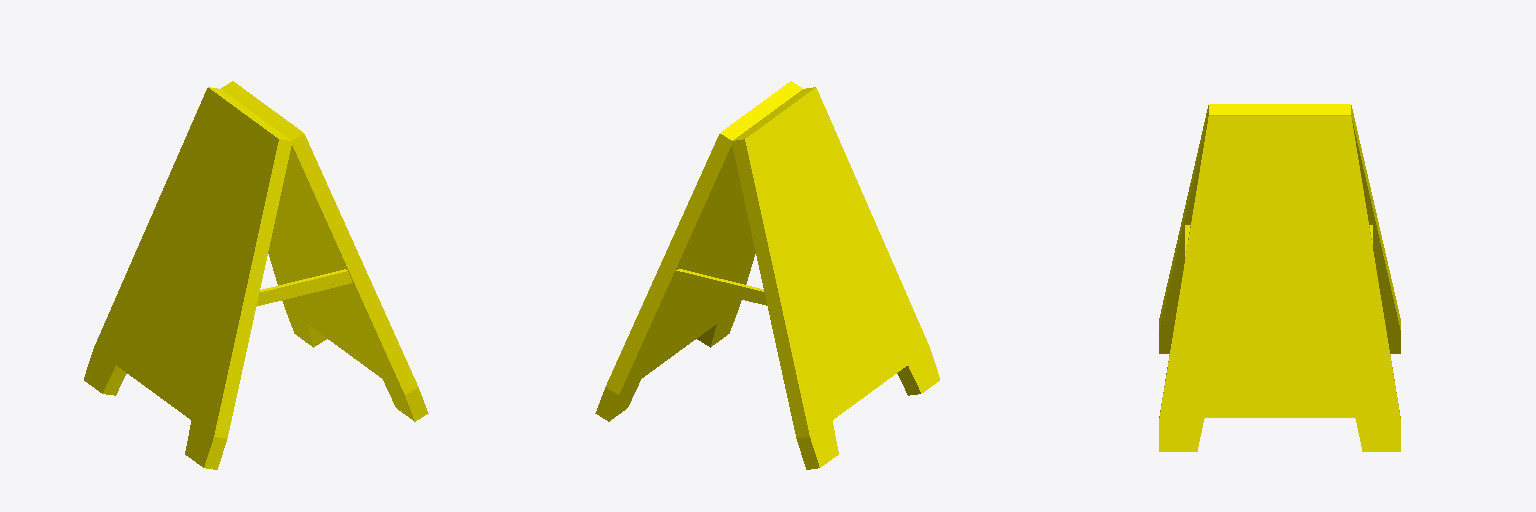
The model's file is slipperyfloorsign.obj.
3 views of the same model, side by side, from view 1: azimuth 30°, elevation 25°; view 2: azimuth 150°, elevation 25°; view 3: azimuth 270°, elevation 25° (orthographic).
Parts seen in each view (by area): view 1: Cube.002; view 2: Cube.002; view 3: Cube.002.
Boxes of the visible parts, x1,y1,x2,y2 form: Cube.002: [84, 81, 428, 469]; Cube.002: [595, 81, 939, 469]; Cube.002: [1159, 104, 1400, 451].
Size of the model in its own units: 1.54 by 1.91 by 1.43.